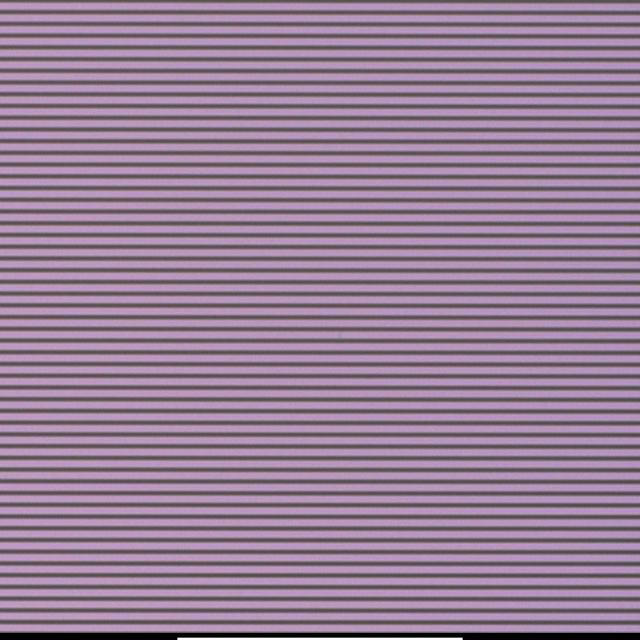nonvisual: (330, 326, 349, 345)
